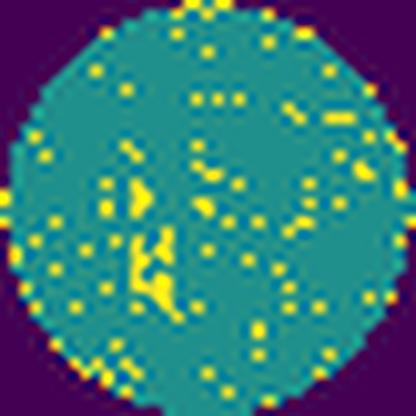Loc: (128, 227, 180, 326), (128, 177, 157, 218)
